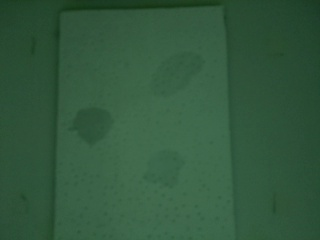Water_detected: (151, 150, 187, 187), (156, 64, 191, 88), (79, 118, 113, 142)
